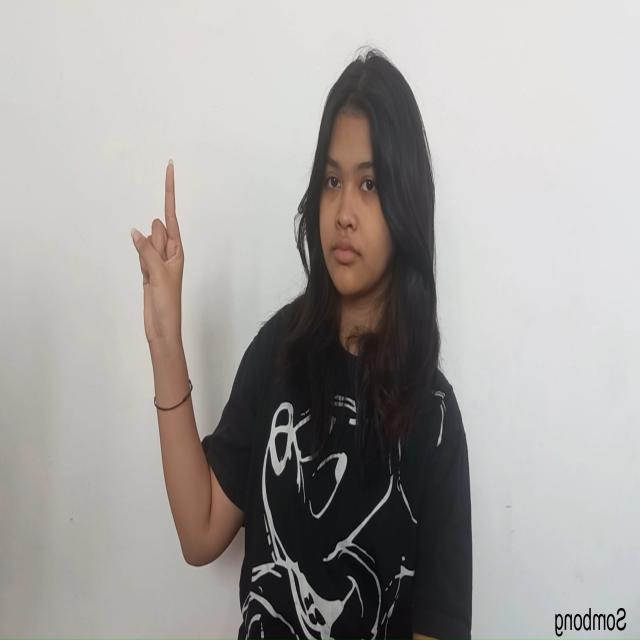Sombong -BISINDO-: (129, 152, 187, 368)
